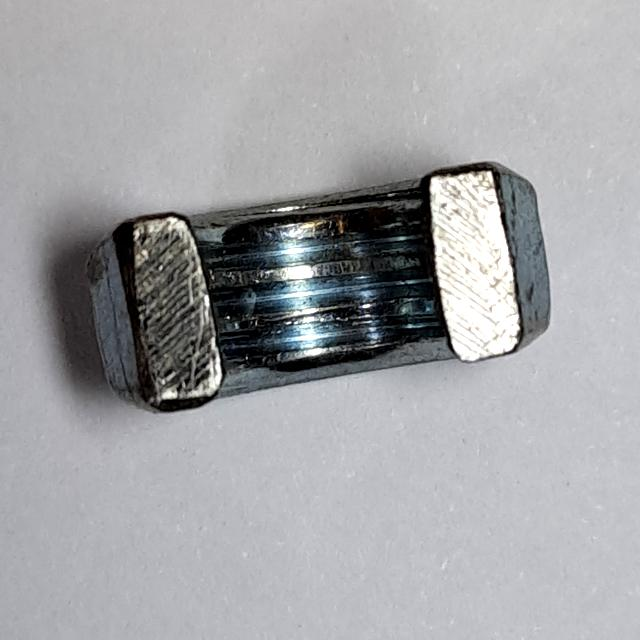Side-Fracture: (74, 130, 561, 435)
